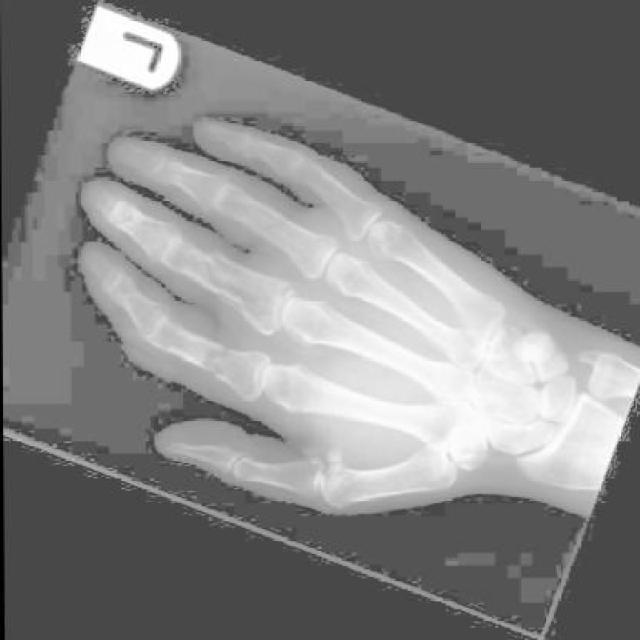Fracture: (181, 242, 259, 313), (220, 186, 294, 246), (190, 334, 244, 385)
